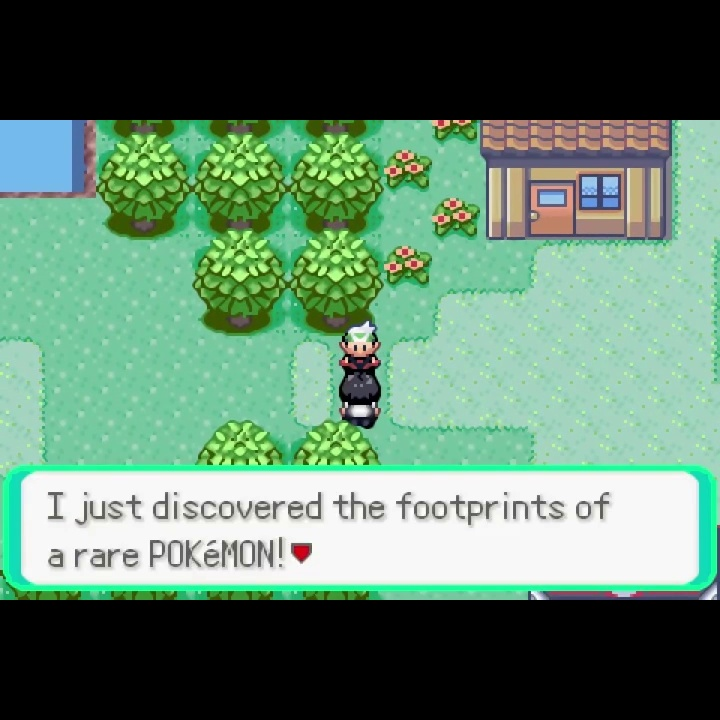house: (478, 120, 678, 244)
npc: (337, 371, 383, 432), (336, 321, 385, 376)
wall: (192, 224, 289, 336), (290, 227, 385, 336), (288, 139, 385, 242), (96, 138, 192, 241), (194, 138, 289, 242), (288, 419, 385, 466), (190, 419, 288, 465), (286, 120, 383, 145), (97, 120, 194, 143), (193, 120, 286, 143)
